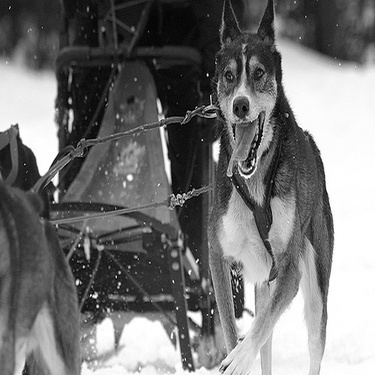dog: (191, 1, 336, 373), (1, 170, 84, 374), (1, 115, 55, 250)
